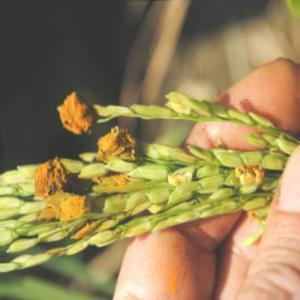Leaf_Scald: (38, 164, 94, 226), (93, 132, 136, 199), (53, 94, 94, 128)
